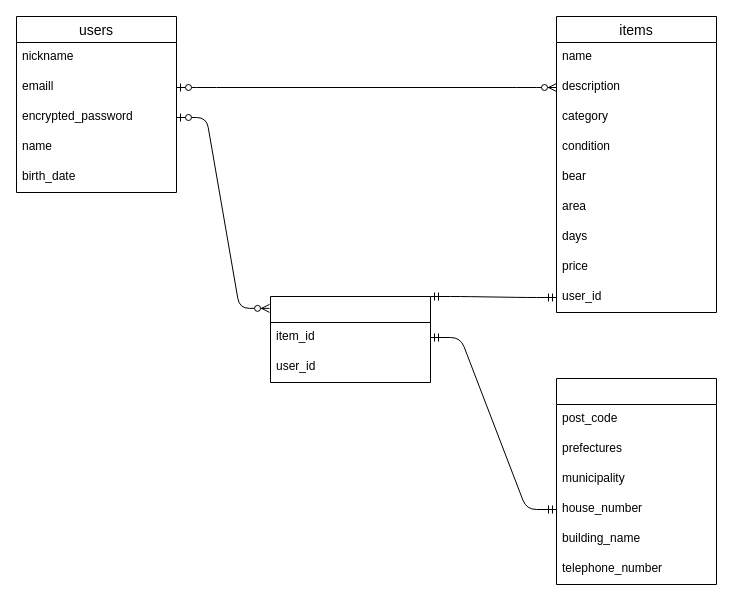
Some shapes in this 733 by 601 pixel diagram are drawn without their labels. Here are the shapes that lost their labels. From the top down, the box of each, then its label:
(270, 296, 430, 382): purchases
(556, 378, 716, 584): address
